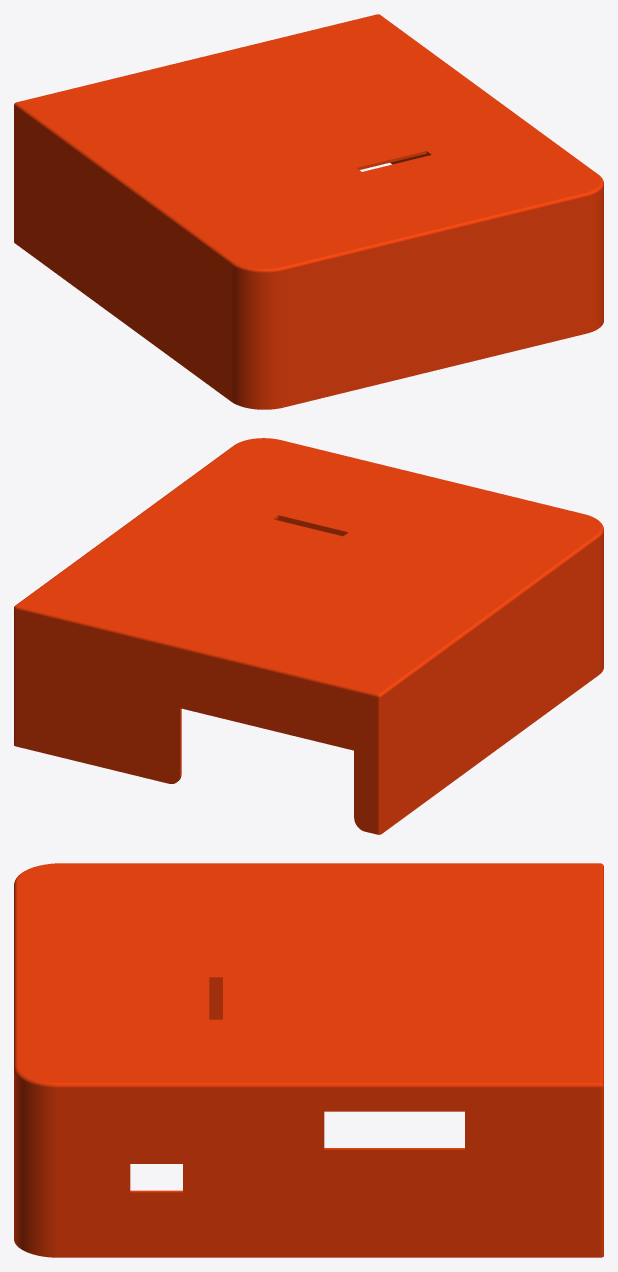
Rendered from cover.dae.
The picture shows the model from 3 angles, top to bottom: view 1: azimuth 30°, elevation 25°; view 2: azimuth 150°, elevation 25°; view 3: azimuth 270°, elevation 25°; orthographic projection. The views are drawn at different scales.
Visible parts, largest first — view 1: Cover; view 2: Cover; view 3: Cover.
Boxes of the visible parts, x1,y1,x2,y2 form: Cover: (14,14,603,409); Cover: (14,438,603,834); Cover: (14,863,603,1257).
Bounding box in the file's own units: 0.3767 × 0.4228 × 0.1372.
